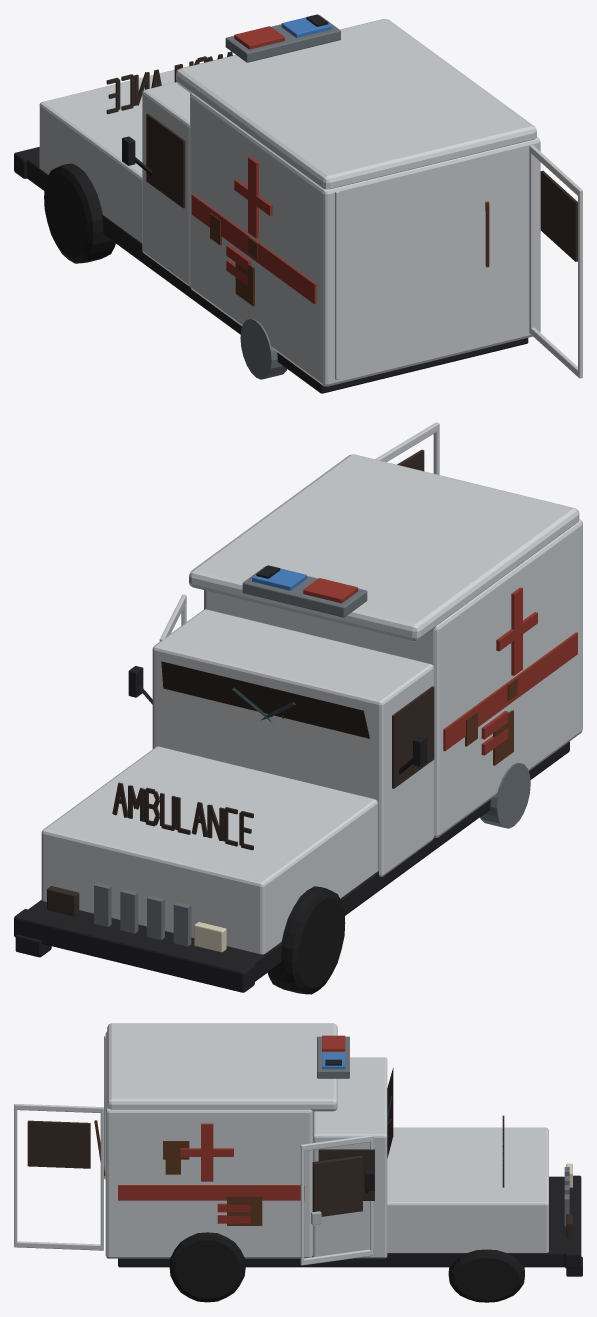
File: ambulance_wreck.glb
The picture shows the model from 3 angles, top to bottom: view 1: azimuth 30°, elevation 25°; view 2: azimuth 150°, elevation 25°; view 3: azimuth 270°, elevation 25°; orthographic projection. The views are drawn at different scales.
Parts seen in each view (by area): view 1: ambulance_wreck; view 2: ambulance_wreck; view 3: ambulance_wreck.
Part boxes in pixels (x1=…): ambulance_wreck: x1=14, y1=14, x2=582, y2=393; ambulance_wreck: x1=14, y1=422, x2=582, y2=994; ambulance_wreck: x1=14, y1=1023, x2=582, y2=1302.
Size of what is drawn, in the model's own units: 2.87 by 2.82 by 6.87.
3 materials, 3 textured.
